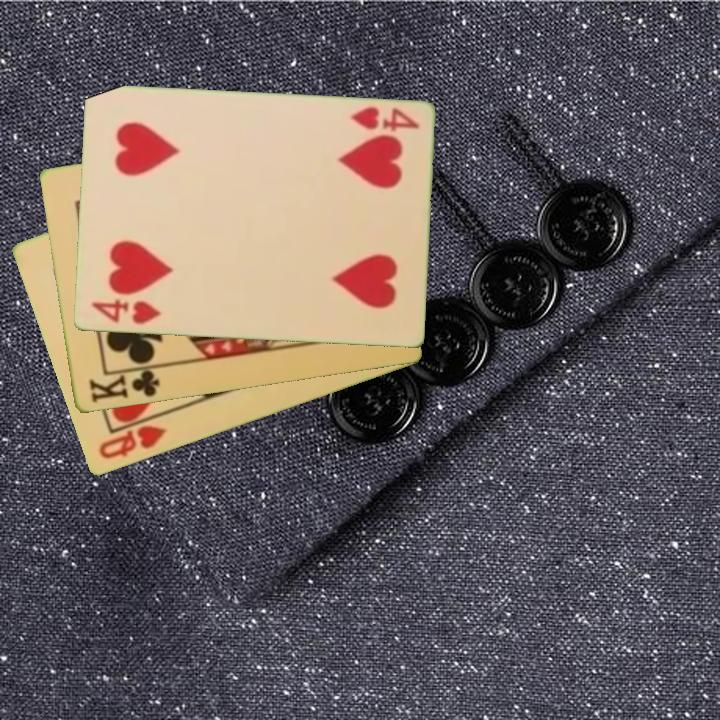4h: (87, 296, 164, 328), (346, 103, 422, 134)
Kc: (85, 363, 163, 407)
Qh: (95, 422, 170, 463)
